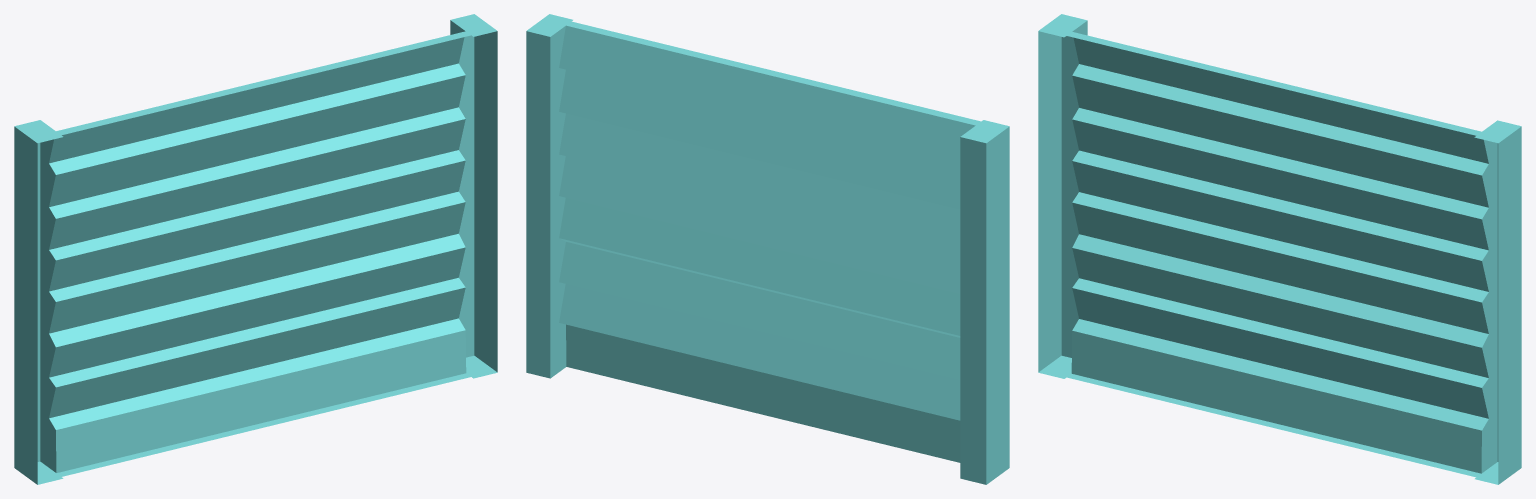
The model's file is muur lang voorkant.fbx.
3 views of the same model, side by side, from view 1: azimuth 30°, elevation 25°; view 2: azimuth 150°, elevation 25°; view 3: azimuth 330°, elevation 25° (orthographic).
Visible parts, largest first — view 1: lange muur.005; view 2: lange muur.005; view 3: lange muur.005.
Boxes of the visible parts, x1,y1,x2,y2 form: lange muur.005: (14,14,497,484); lange muur.005: (526,14,1009,484); lange muur.005: (1038,14,1521,484).
Size of the model in its own units: 3.95 by 2.8 by 0.3473.
